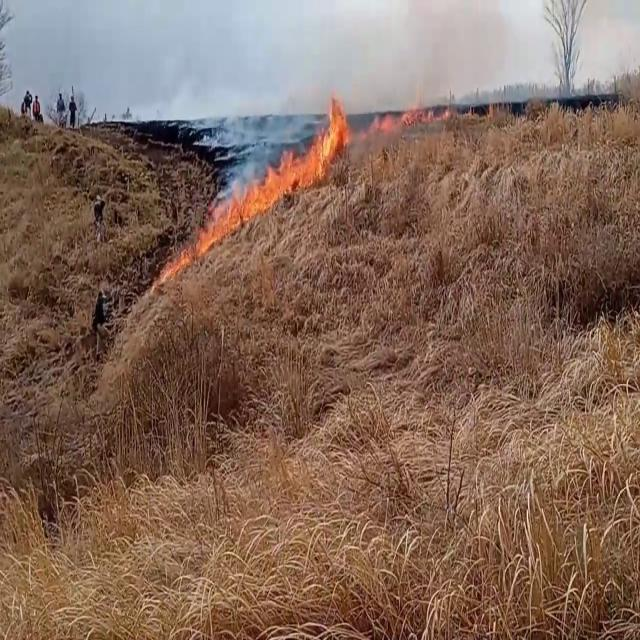Fire: (245, 89, 353, 210), (162, 167, 256, 273)
